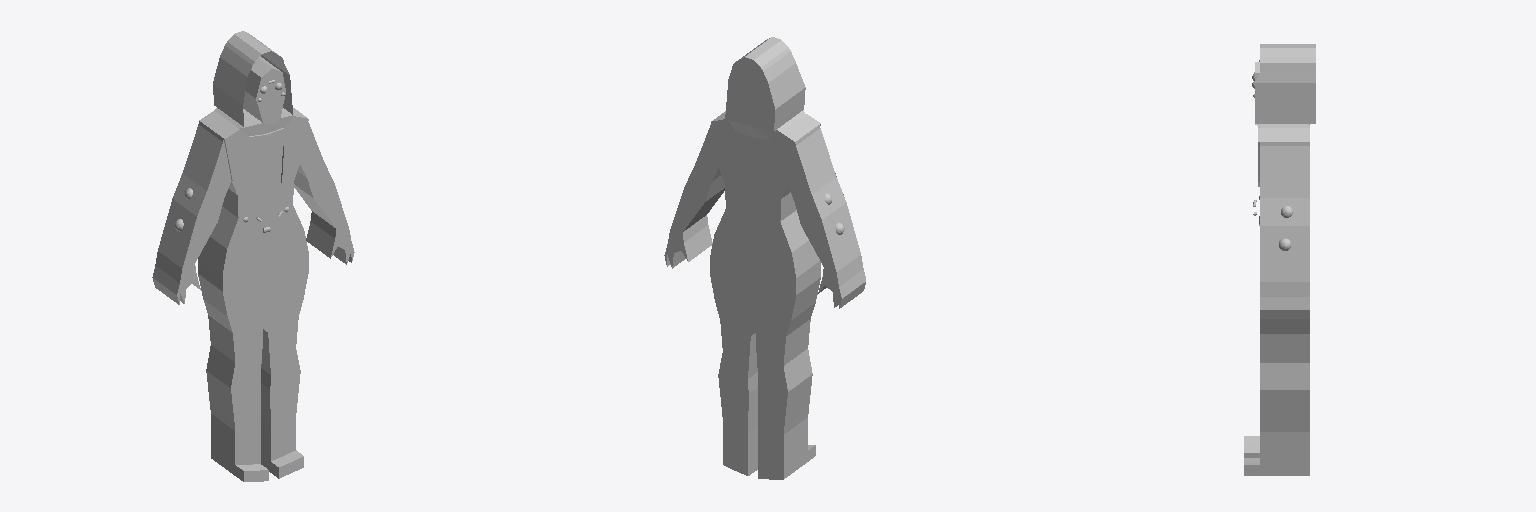
The model's file is ghost wasp.obj.
The picture shows the model from 3 angles: view 1: azimuth 30°, elevation 25°; view 2: azimuth 150°, elevation 25°; view 3: azimuth 270°, elevation 25°; orthographic projection.
Parts seen in each view (by area): view 1: Cube; view 2: Cube; view 3: Cube.
Part boxes in pixels (x1,y1,x2,y2): Cube: (152,31,354,481); Cube: (664,37,865,479); Cube: (1244,44,1315,475).
Size of the model in its own units: 8.32 by 18.88 by 2.91.